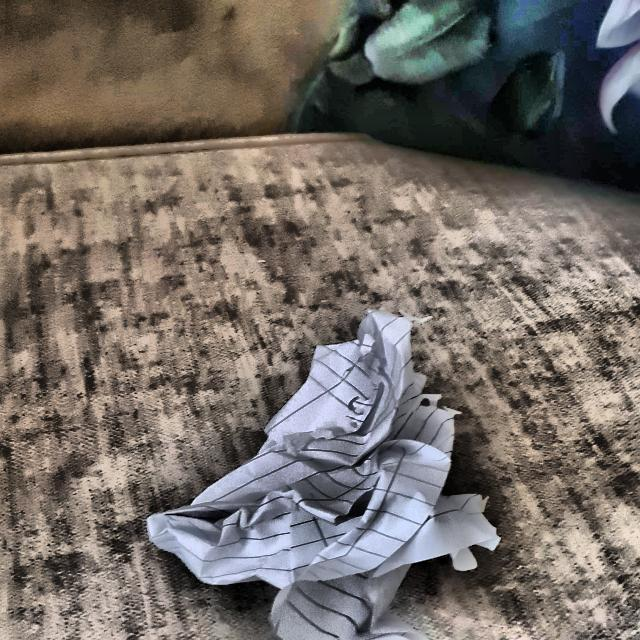paper: (159, 306, 482, 640)
